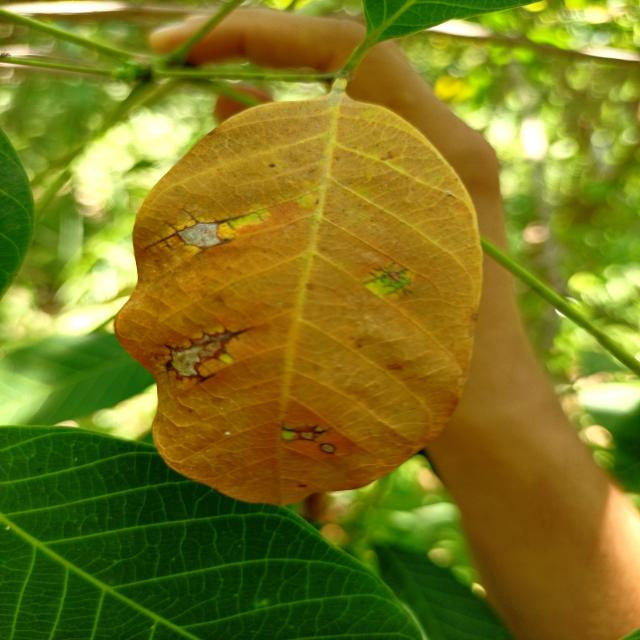Colletotrichum: (318, 443, 336, 454)
Corynespora: (143, 207, 269, 255), (157, 328, 248, 385), (362, 261, 414, 296), (280, 425, 332, 442)
Leaf-Blight: (178, 224, 220, 248), (171, 347, 201, 376)
